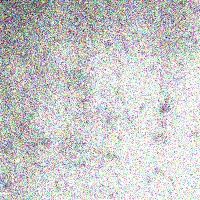pitted_surface: (0, 19, 138, 199), (82, 4, 200, 190)
